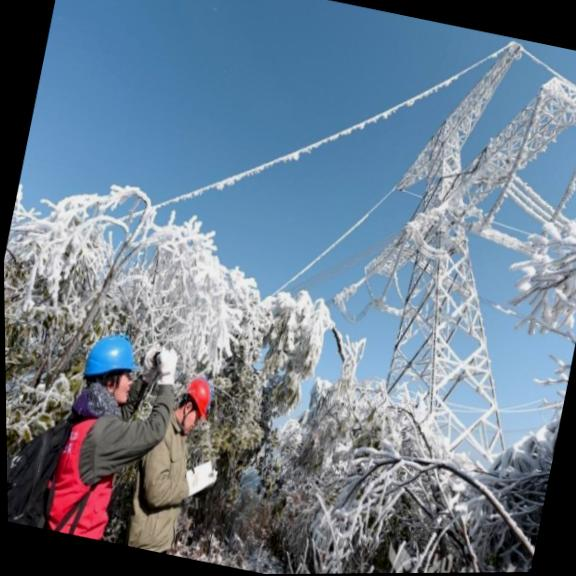no_safety_vest: (123, 416, 205, 554), (56, 390, 135, 508)
